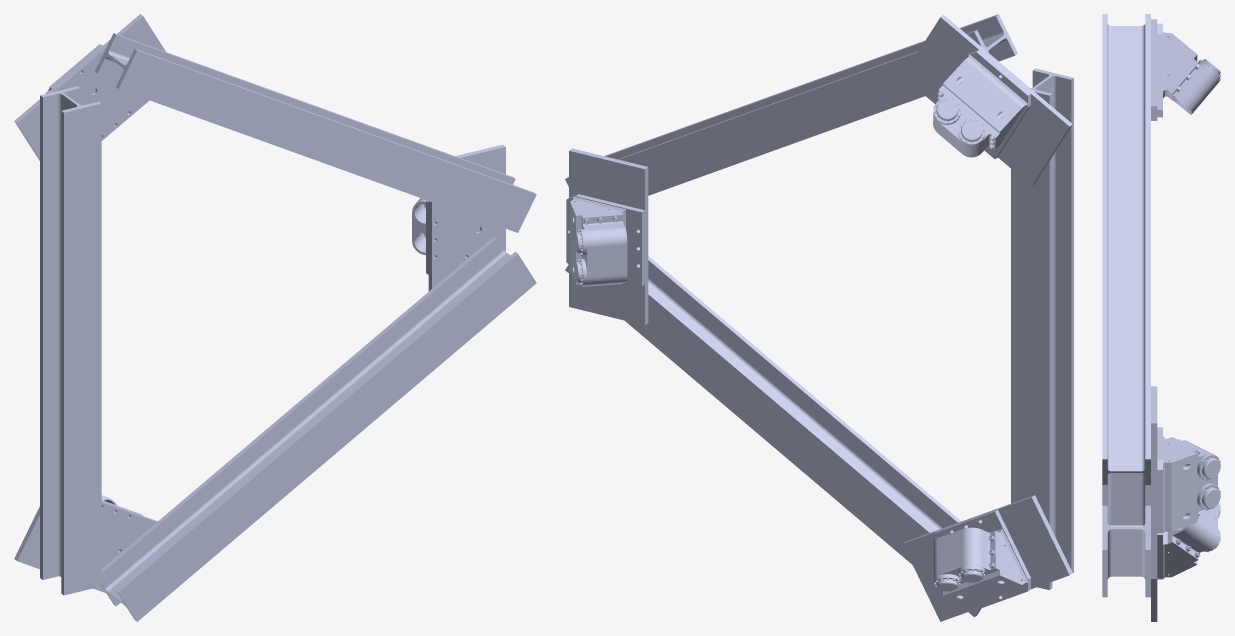
File: TopParts.fbx
3 views of the same model, side by side, from view 1: azimuth 30°, elevation 25°; view 2: azimuth 150°, elevation 25°; view 3: azimuth 270°, elevation 25° (orthographic). The views are drawn at different scales.
Parts seen in each view (by area): view 1: EMotion-8000 - Dummyload triangle_Default_sldprt.step, 3-134056_CARDAN_STEUN.stp; view 2: EMotion-8000 - Dummyload triangle_Default_sldprt.step, 3-134056_CARDAN_STEUN.stp, 3-134056_CARDAN_STEUN.stp.002, 3-134056_CARDAN_STEUN.stp.001; view 3: EMotion-8000 - Dummyload triangle_Default_sldprt.step, 3-134056_CARDAN_STEUN.stp.002, 3-134056_CARDAN_STEUN.stp.001, 3-134056_CARDAN_STEUN.stp, 3-134056_CARDANHUIS_A_SW0002.stp, 3-134056_CARDANHUIS_A_SW0002.stp.001, 3-134056_CARDANHUIS_A_SW0002.stp.002.
Boxes of the visible parts, x1,y1,x2,y2 form: EMotion-8000 - Dummyload triangle_Default_sldprt.step: [14, 14, 536, 621]; 3-134056_CARDAN_STEUN.stp: [412, 198, 426, 255]; EMotion-8000 - Dummyload triangle_Default_sldprt.step: [565, 14, 1073, 621]; 3-134056_CARDAN_STEUN.stp: [581, 212, 627, 286]; 3-134056_CARDAN_STEUN.stp.002: [933, 527, 999, 583]; 3-134056_CARDAN_STEUN.stp.001: [933, 85, 999, 157]; EMotion-8000 - Dummyload triangle_Default_sldprt.step: [1102, 14, 1197, 621]; 3-134056_CARDAN_STEUN.stp.002: [1167, 505, 1217, 562]; 3-134056_CARDAN_STEUN.stp.001: [1167, 59, 1217, 114]; 3-134056_CARDAN_STEUN.stp: [1168, 437, 1217, 518]; 3-134056_CARDANHUIS_A_SW0002.stp: [1197, 483, 1220, 510]; 3-134056_CARDANHUIS_A_SW0002.stp.001: [1197, 453, 1220, 480]; 3-134056_CARDANHUIS_A_SW0002.stp.002: [1198, 59, 1220, 80].
Size of the model in its own units: 408 by 465 by 82.87.
